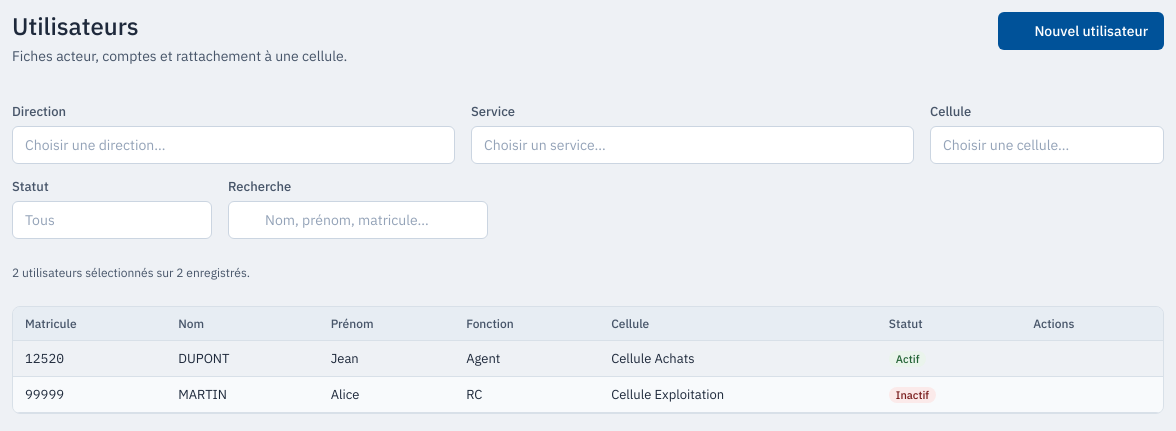
Test: Utilisateurs › filtre par statut
Click the button with aria-label "Filtrer les utilisateurs par statut" at (112, 220), box [12,201,212,239]
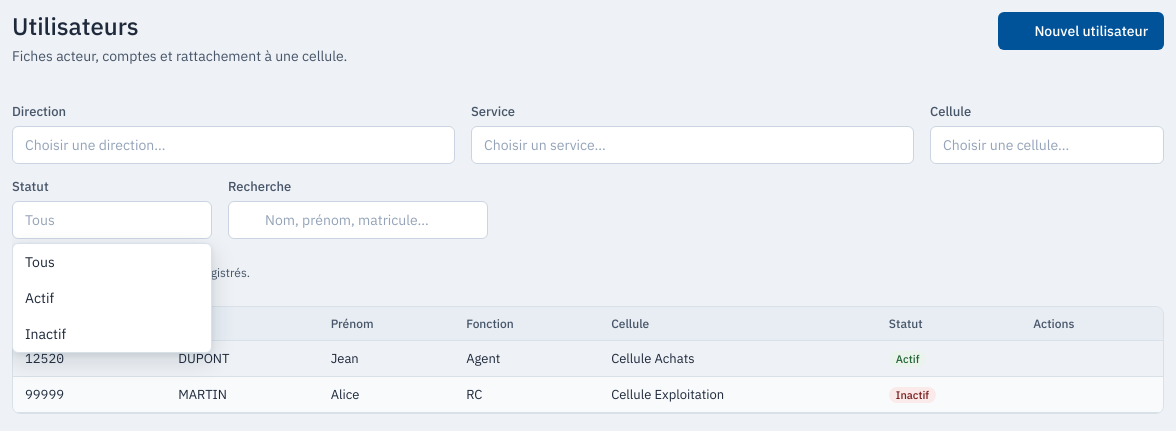
Click the 1st text "Actif" at (40, 298), box [25,289,54,307]
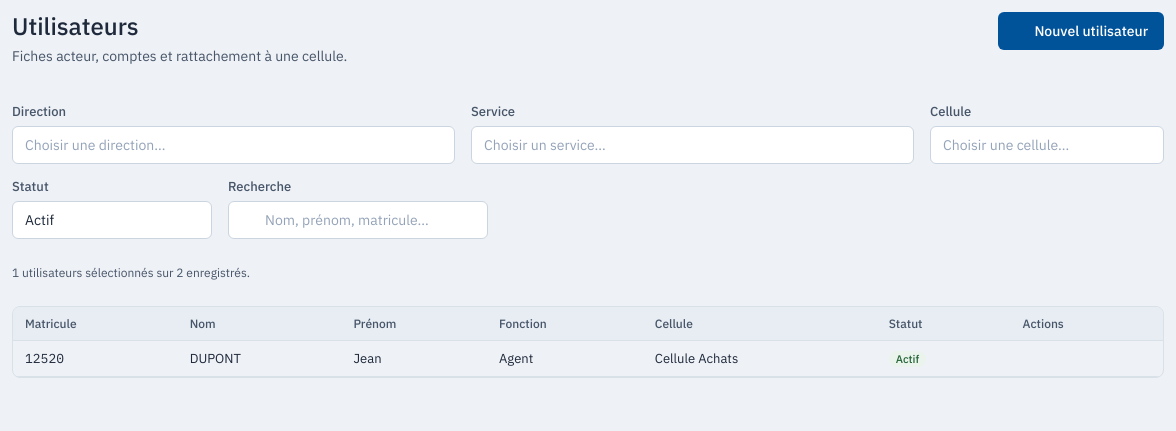
Expected: the text "12520" is shown, [13,341,178,377]
Expected: the text "99999" is gone
